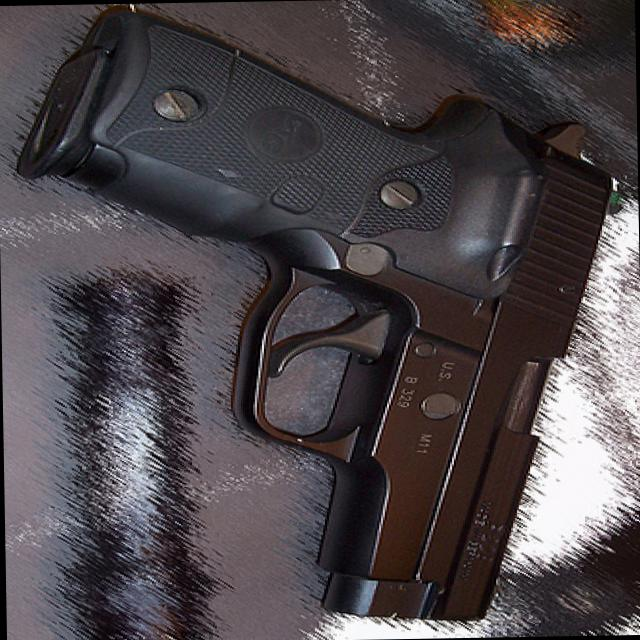handgun: (16, 0, 624, 634)
